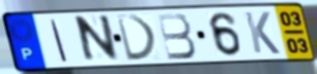6: (207, 11, 244, 58)
B: (155, 11, 199, 61)
D: (114, 14, 160, 63)
I: (48, 18, 70, 63)
K: (242, 10, 283, 56)
N: (75, 13, 122, 66)
